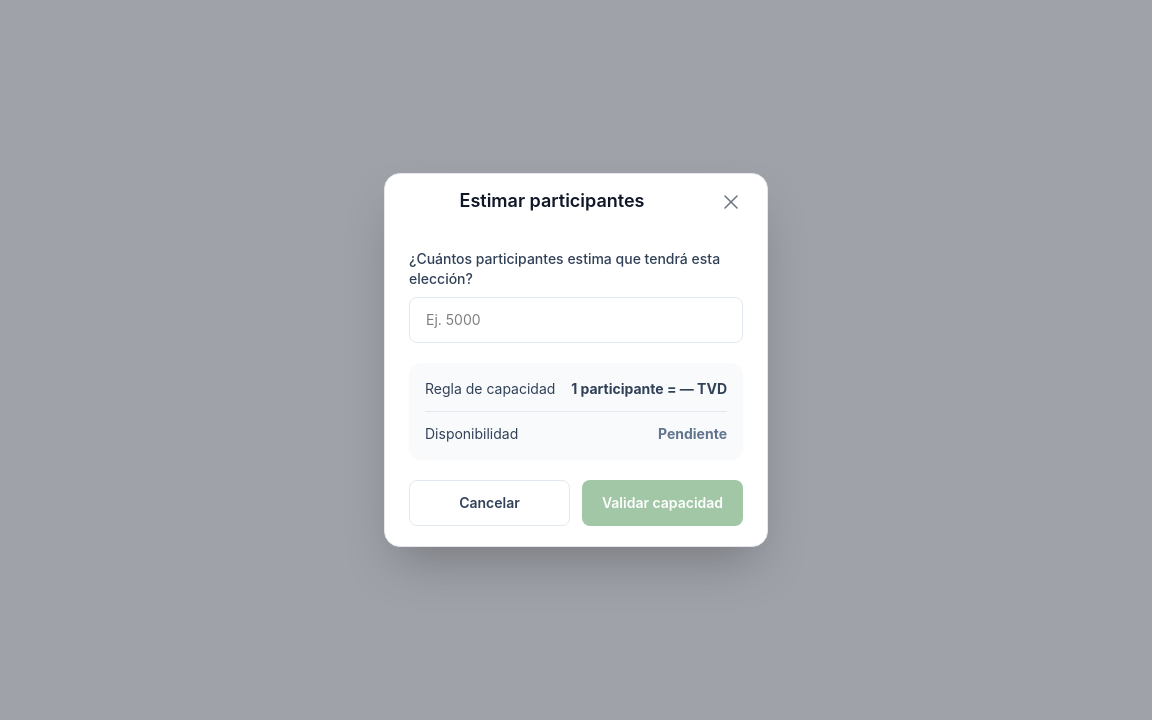
Scenario: Admin tenant estimate and insufficient balance modals › evita doble submit mientras una validacion esta en curso
This screenshot has width=1152, height=720.
Type "10" into the field labelled "¿Cuántos participantes estima que tendrá esta elección?" at (576, 320), box x1=409 y1=297 x2=743 y2=343
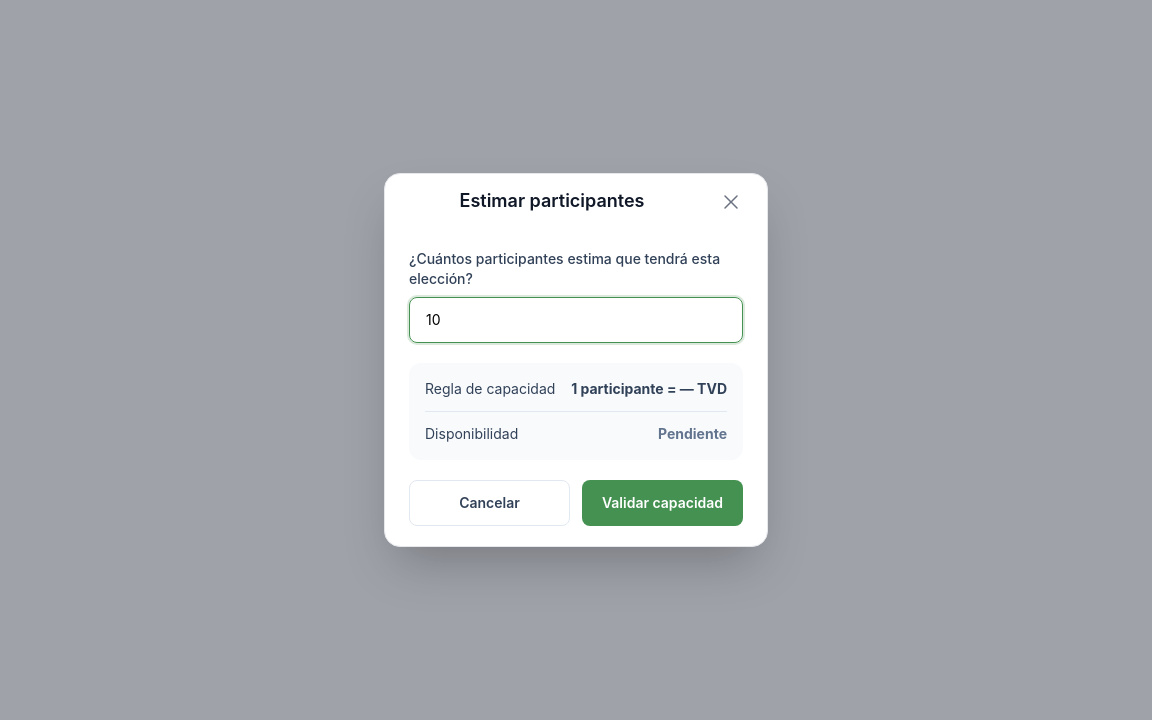
Double-click the button "Validar capacidad" at (662, 503), box x1=582 y1=480 x2=743 y2=526
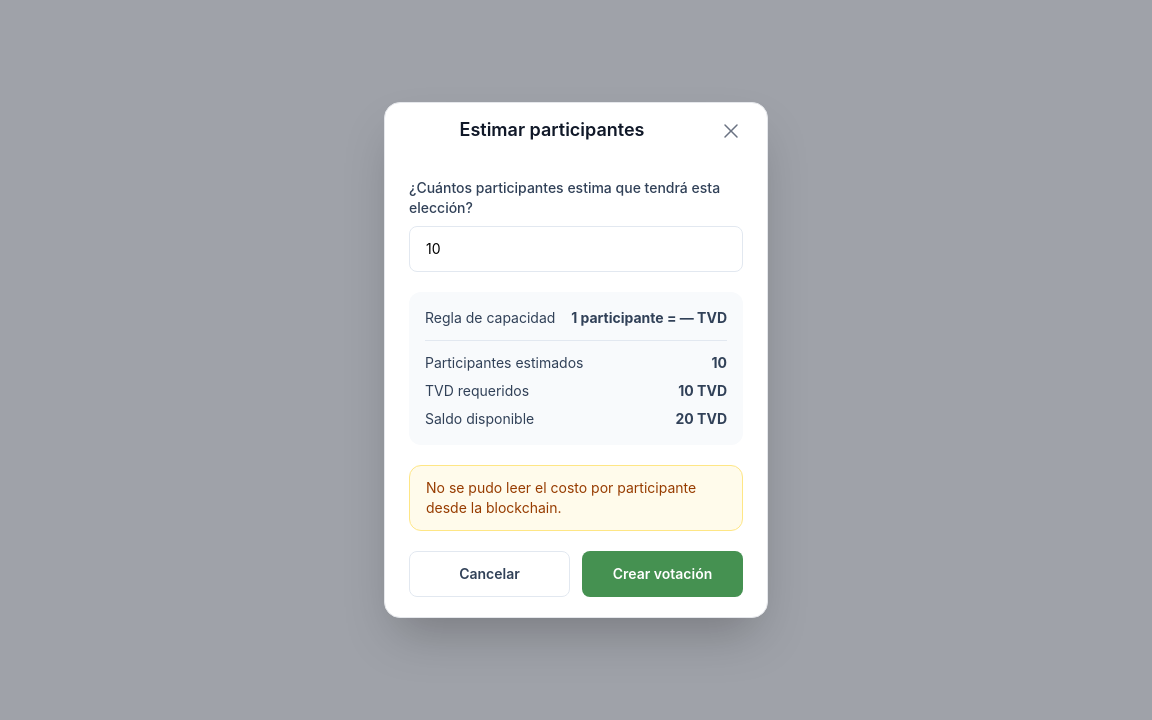
Expected: the text "TVD requeridos" is shown, x1=425 y1=381 x2=529 y2=401
